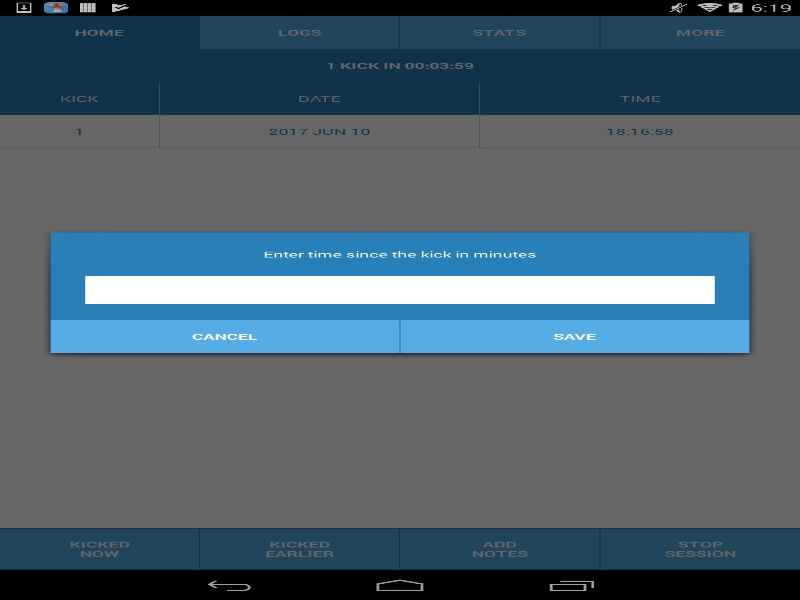Button: (50, 320, 399, 352), (400, 320, 749, 352)
Input: (85, 276, 714, 303)
